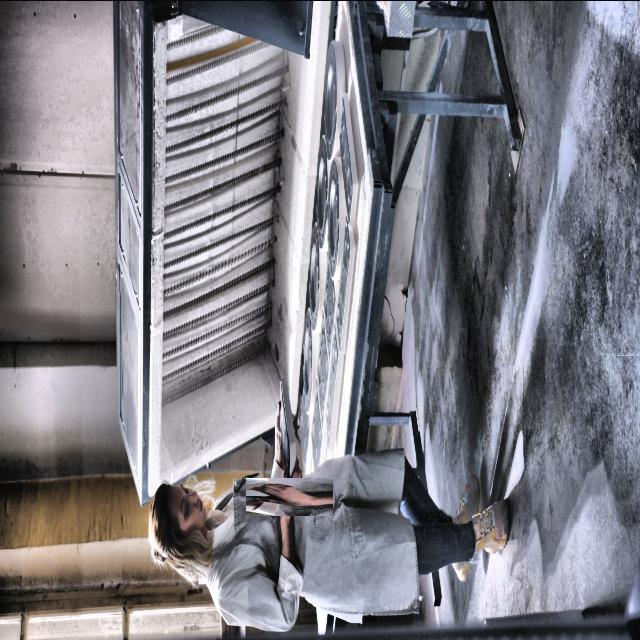not-gloved: (258, 465, 320, 527)
